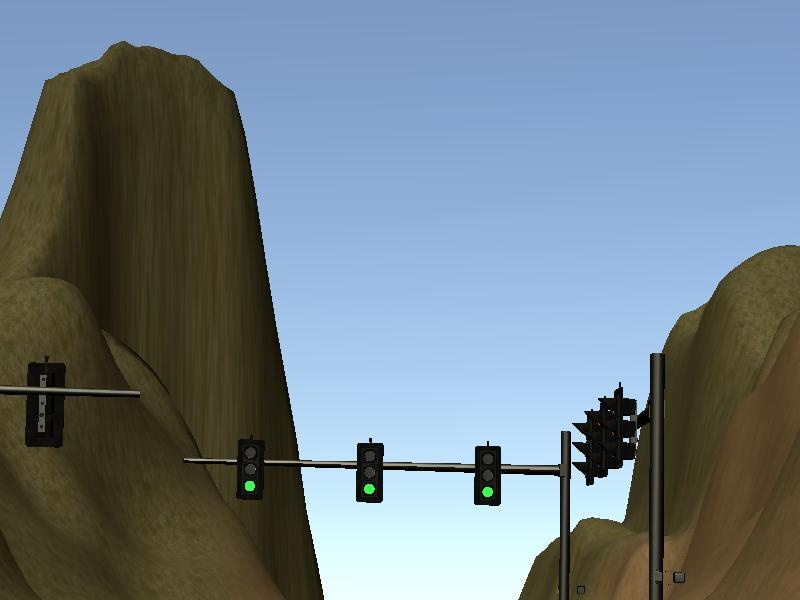GREEN: (474, 445, 502, 507), (356, 441, 384, 503), (236, 437, 264, 499)
